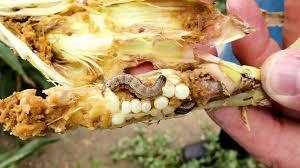fallarmy_worm: (96, 74, 177, 98)
